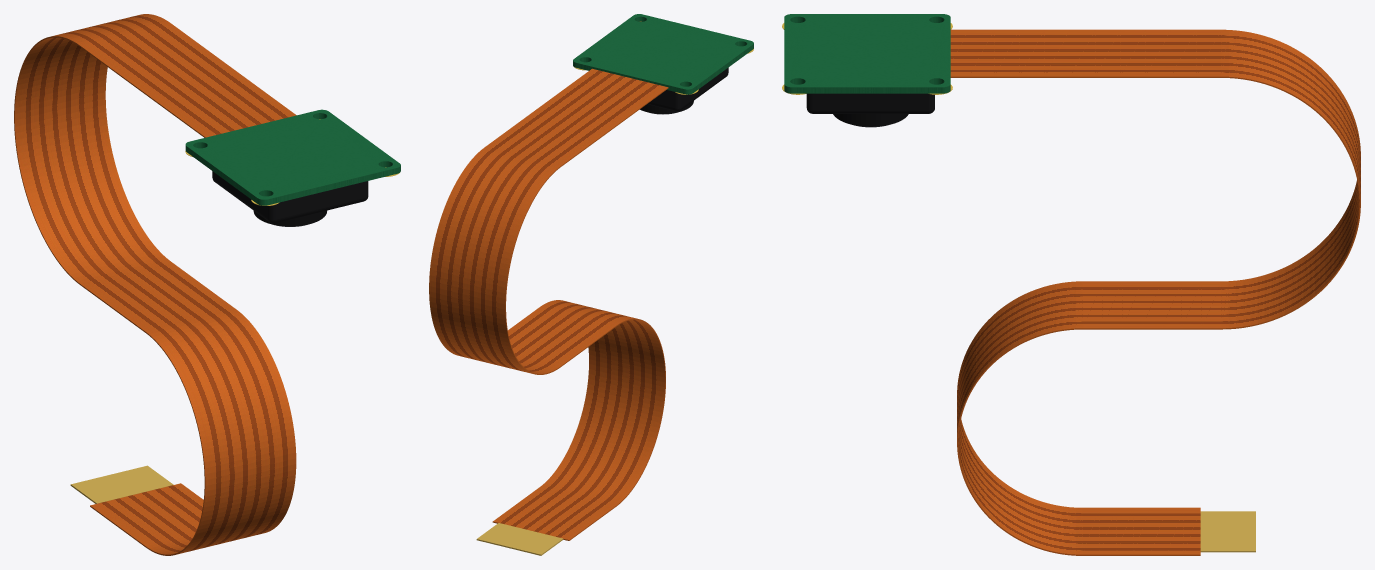
Rendered from pi_camera_cable.obj.
3 renders of one model, left to right at view 1: azimuth 30°, elevation 25°; view 2: azimuth 150°, elevation 25°; view 3: azimuth 270°, elevation 25°, orthographic. The views are drawn at different scales.
Parts seen in each view (by area): view 1: ribbon, pcb, housing, ribbon_contacts, barrel; view 2: ribbon, pcb, ribbon_contacts, housing; view 3: ribbon, pcb, housing, ribbon_contacts, barrel.
Boxes of the visible parts, x1=… form: ribbon: x1=14, y1=14, x2=296, y2=555; pcb: x1=185, y1=109, x2=400, y2=205; housing: x1=212, y1=171, x2=368, y2=223; ribbon_contacts: x1=70, y1=465, x2=173, y2=503; barrel: x1=253, y1=210, x2=327, y2=226; ribbon: x1=429, y1=68, x2=668, y2=540; pcb: x1=573, y1=14, x2=753, y2=94; ribbon_contacts: x1=476, y1=523, x2=563, y2=555; housing: x1=647, y1=67, x2=728, y2=111; ribbon: x1=950, y1=29, x2=1360, y2=555; pcb: x1=784, y1=14, x2=950, y2=93; housing: x1=806, y1=93, x2=934, y2=113; ribbon_contacts: x1=1200, y1=511, x2=1255, y2=552; barrel: x1=833, y1=114, x2=908, y2=126.
Bounding box in the file's own units: 25.6 × 76.62 × 83.39.
10 materials, 2 textured.
